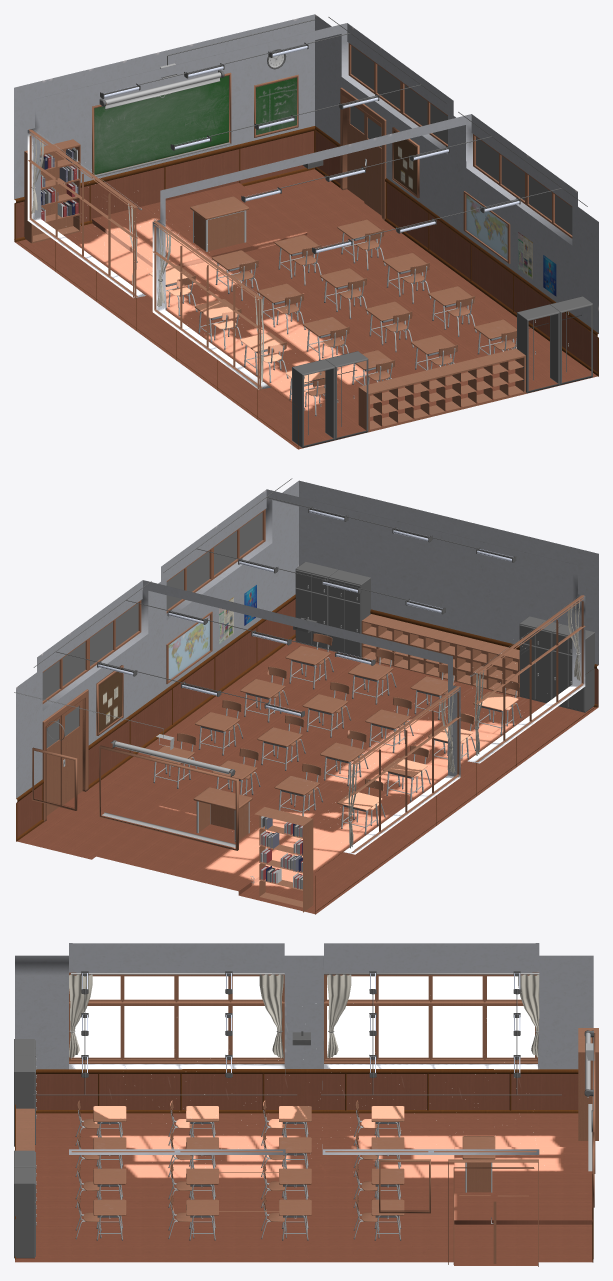
The model's file is classroom.glb.
The picture shows the model from 3 angles, top to bottom: view 1: azimuth 30°, elevation 25°; view 2: azimuth 150°, elevation 25°; view 3: azimuth 270°, elevation 25°; orthographic projection. The views are drawn at different scales.
Parts seen in each view (by area): view 1: walls, blackboard.001, backShelve, table.001, hallWindows, locker2, windows, door, shelf.001, lights, table2, boards3.001 (+11 smaller); view 2: walls, locker2, table.001, hallWindows, backShelve, windows, door, shelf.001, table2, lights, chair.001, boards3.001 (+10 smaller); view 3: walls, glow, windows, table.001, curtains, locker2, table2, chair.002, wires, chair, shelf.001, lights (+10 smaller).
Part boxes in pixels (x1,y1,x2,y2): walls: (14,14,598,449); blackboard.001: (94,75,228,174); backShelve: (358,348,525,431); table.001: (149,219,516,384); hallWindows: (348,43,572,238); locker2: (292,296,592,447); windows: (28,129,262,390); door: (340,87,386,220); shelf.001: (24,139,80,243); lights: (100,42,520,254); table2: (165,232,514,400); boards3.001: (466,194,556,296); walls: (16,480,598,914); locker2: (295,561,594,712); table.001: (149,645,518,810); hallWindows: (42,509,265,703); backShelve: (361,614,519,696); windows: (351,595,585,852); door: (42,689,88,821); shelf.001: (254,807,313,912); table2: (153,659,514,834); lights: (97,506,516,717); chair.001: (177,633,519,790); boards3.001: (168,585,256,680); walls: (15,943,593,1265); glow: (74,976,534,1057); windows: (69,972,538,1063); table.001: (93,1106,404,1215); curtains: (69,973,539,1058); locker2: (14,1039,36,1258); table2: (96,1122,401,1240); chair.002: (83,1119,377,1222); wires: (33,989,594,1111); chair: (75,1110,379,1239); shelf.001: (578,1028,598,1140); lights: (81,971,520,1077).
Size of the model in its own units: 10.47 by 6.36 by 15.84.
5 materials, 5 textured.
